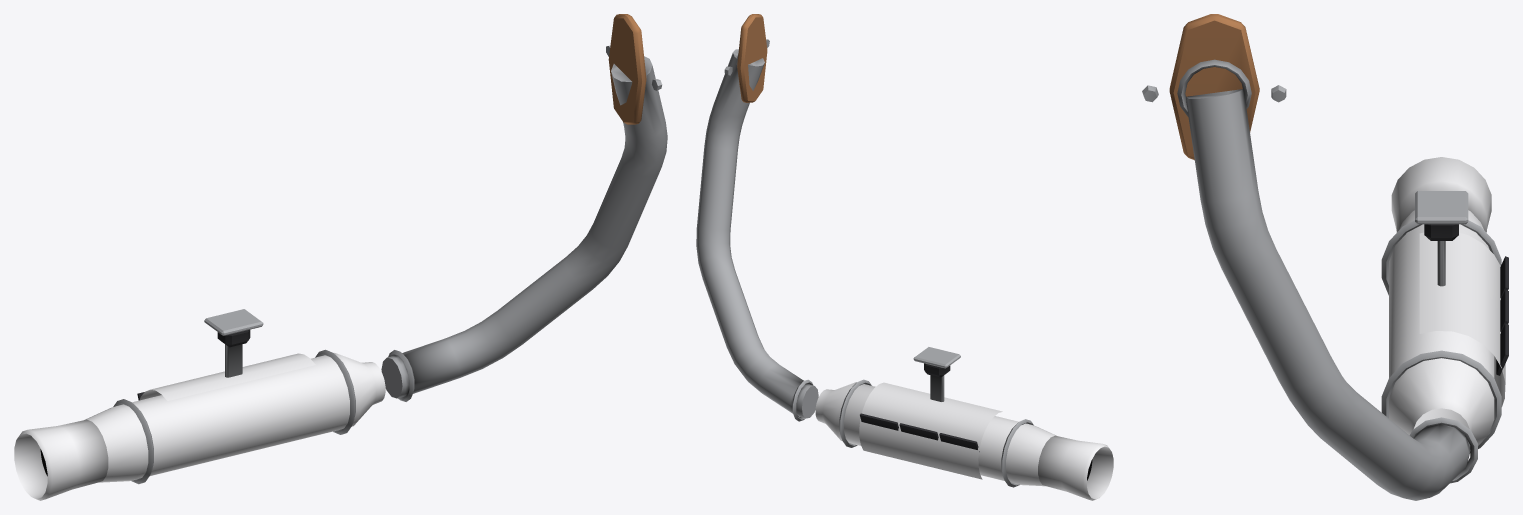
Rendered from exh_side@moto.glb.
3 views of the same model, side by side, from view 1: azimuth 30°, elevation 25°; view 2: azimuth 150°, elevation 25°; view 3: azimuth 270°, elevation 25° (orthographic). The views are drawn at different scales.
Visible parts, largest first — view 1: PART; view 2: PART; view 3: PART.
Part boxes in pixels (x1=…): PART: x1=14, y1=14, x2=667, y2=500; PART: x1=696, y1=14, x2=1113, y2=500; PART: x1=1142, y1=14, x2=1508, y2=500.
Size of the model in its own units: 0.6737 by 0.4874 by 0.2747.
